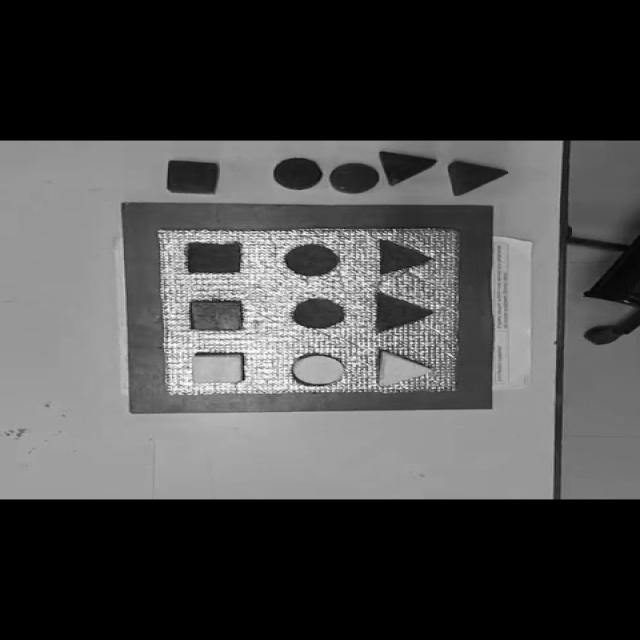bcircle: (272, 157, 324, 190)
bcube: (165, 160, 222, 196)
btriangle: (378, 151, 438, 186)
mtcircle: (283, 243, 341, 277), (291, 297, 346, 329)
mtcube: (186, 242, 243, 274)
mttriangle: (373, 291, 436, 333), (376, 238, 434, 274)
rcircle: (328, 162, 379, 194)
rcube: (187, 299, 244, 331)
rtriangle: (448, 162, 502, 195)
wb: (155, 227, 464, 398)
ycircle: (290, 353, 347, 386)
ycube: (192, 354, 247, 383)
ytriangle: (376, 349, 435, 387)
